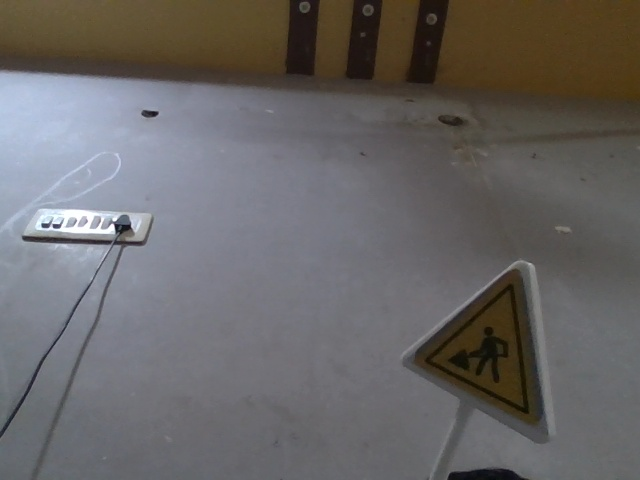workinprogress: (368, 254, 559, 422)
